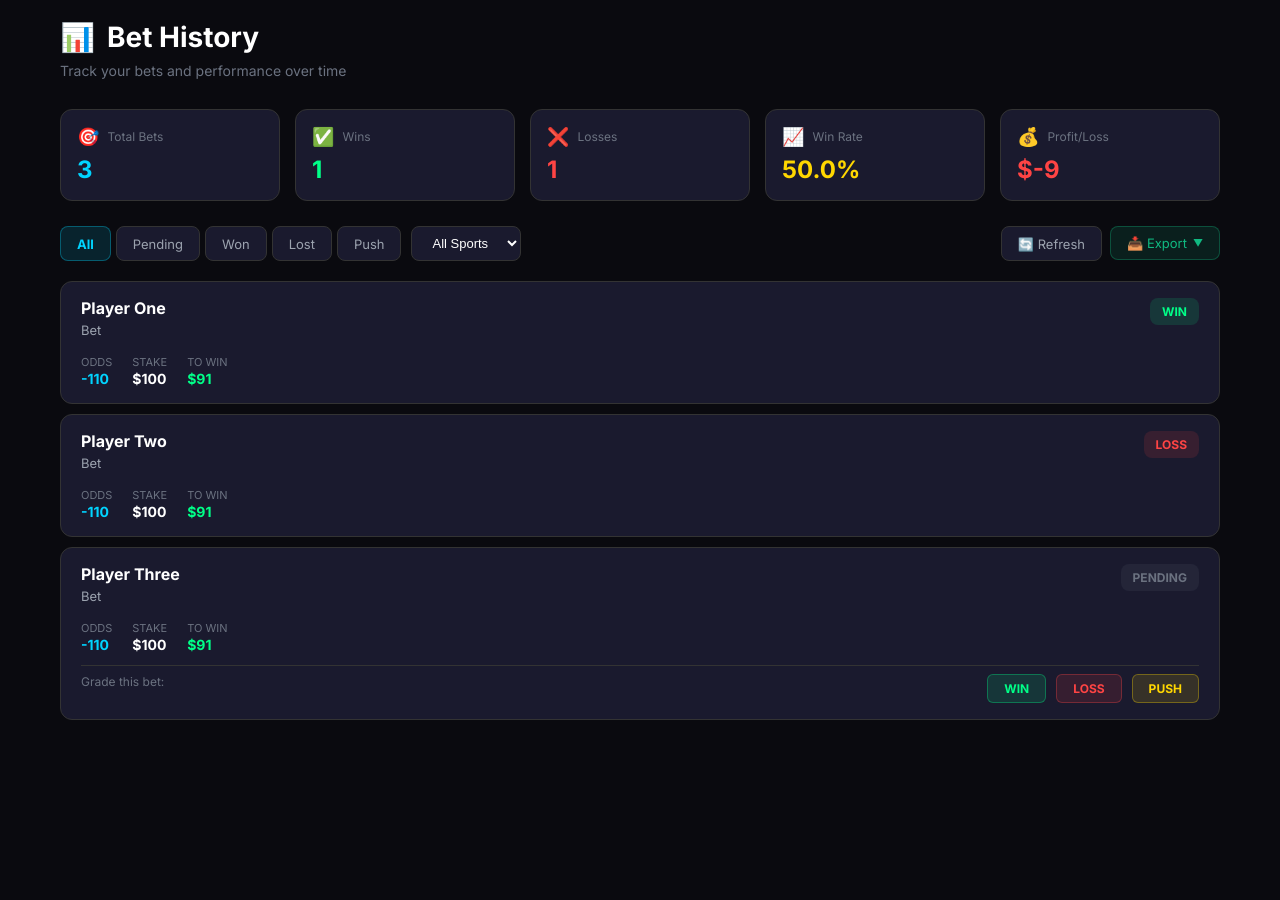
Test: BetHistory › filters bets by status
The image size is (1280, 900).
expect the text "Player One" is shown: met, box [81,298,166,318]
Click the button "won" at (236, 244), box [205,226,267,261]
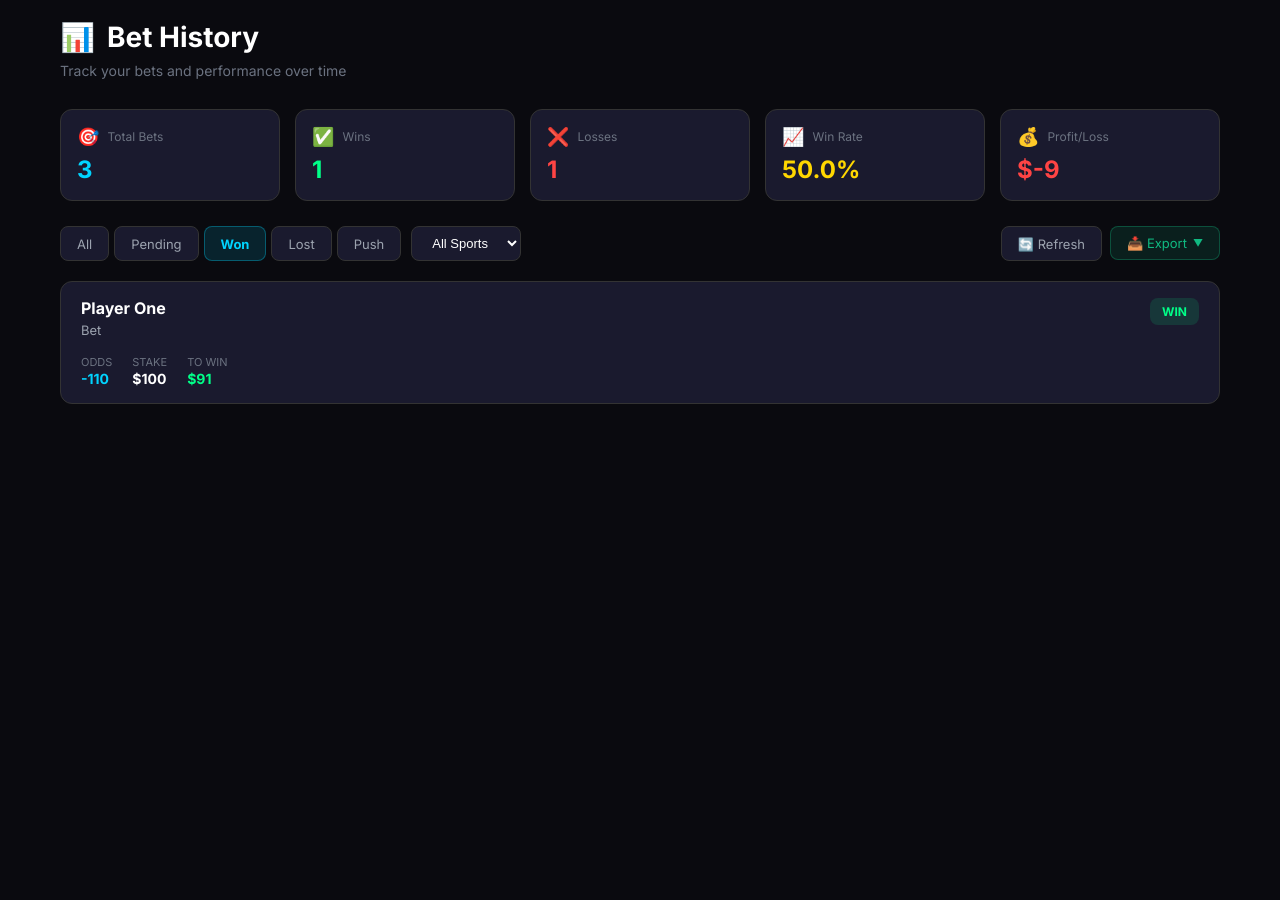
expect the text "Player One" is shown: met, box [81,298,166,318]
expect the text "Player Two" is gone: met
